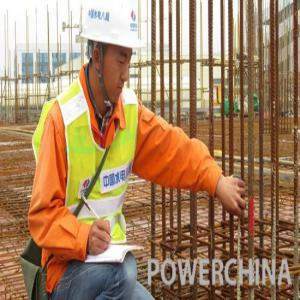white: (82, 4, 140, 105)
